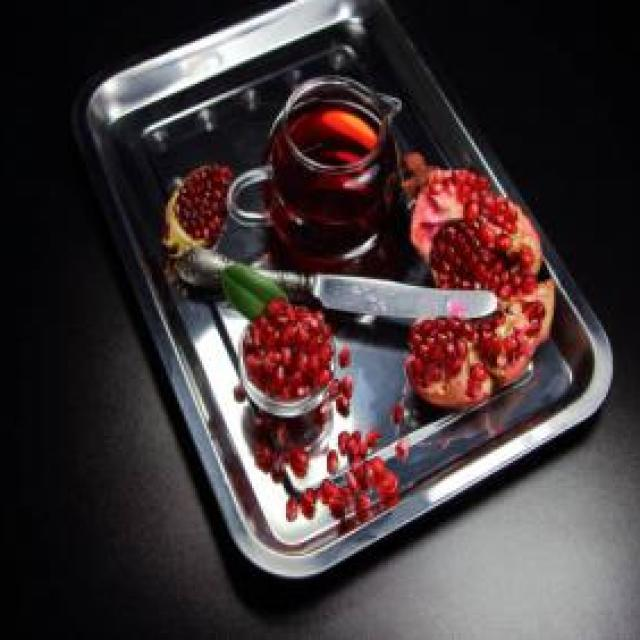knife: (175, 245, 504, 312)
